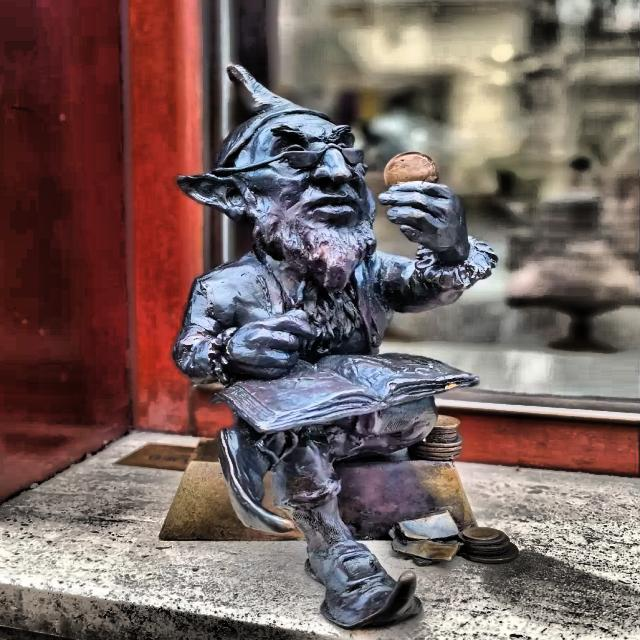Gaugan: (160, 66, 517, 630)
